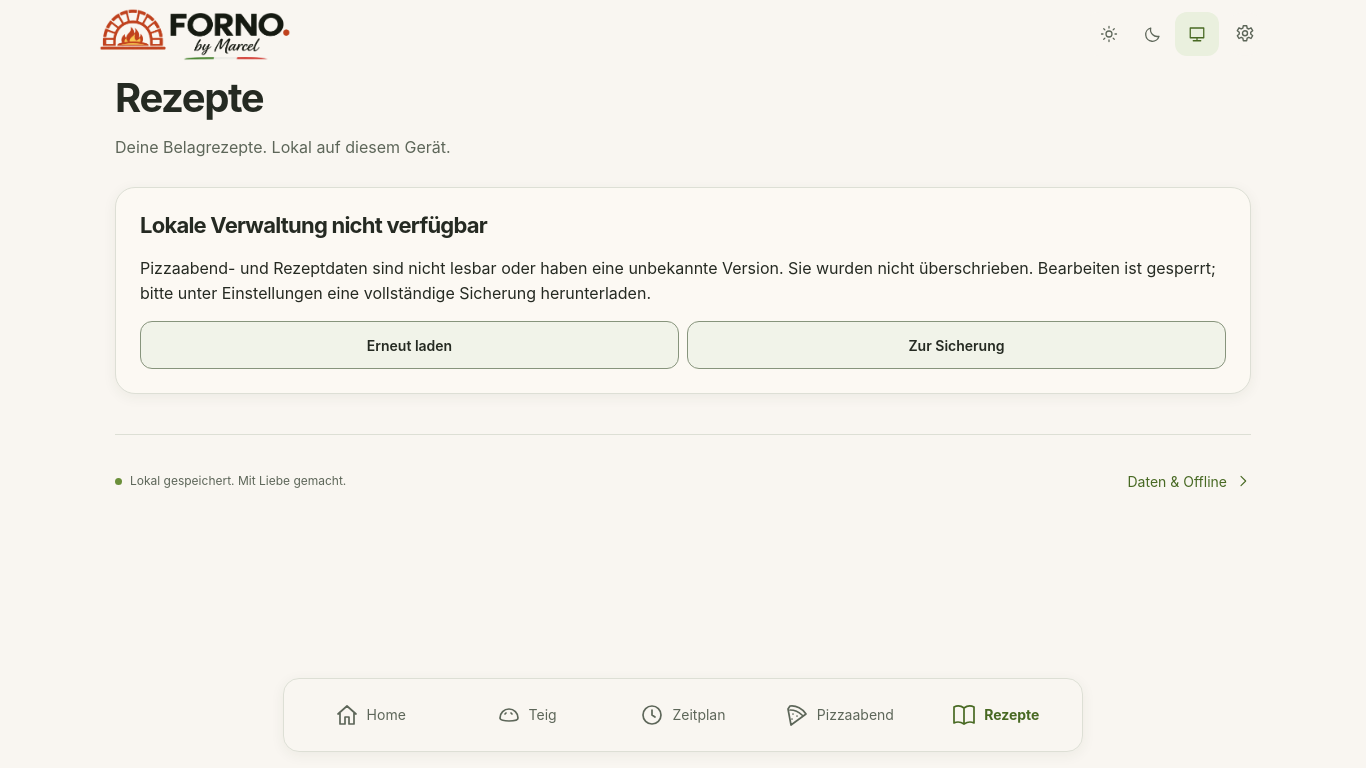
Test: P3 recipes, evening and draft protection › keeps read failures local to P3
This screenshot has width=1366, height=768.
Expected: the message shows "nicht lesbar", top-left (140, 258), bottom-right (1216, 303)
Click the link "Teig".
click(527, 715)  # box top-left (496, 703), bottom-right (557, 727)
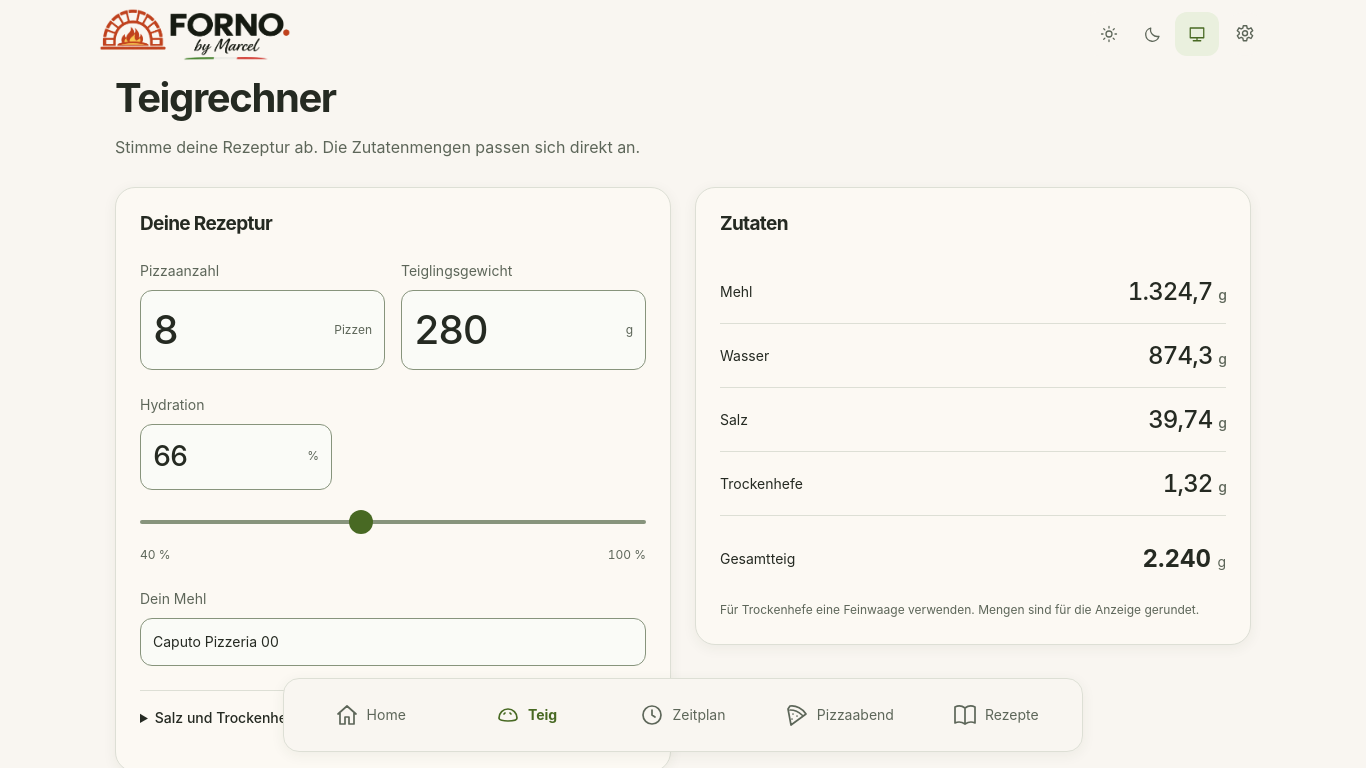
Expected: the field labelled "Pizzaanzahl Pizzen" is shown, top-left (153, 299), bottom-right (326, 361)
